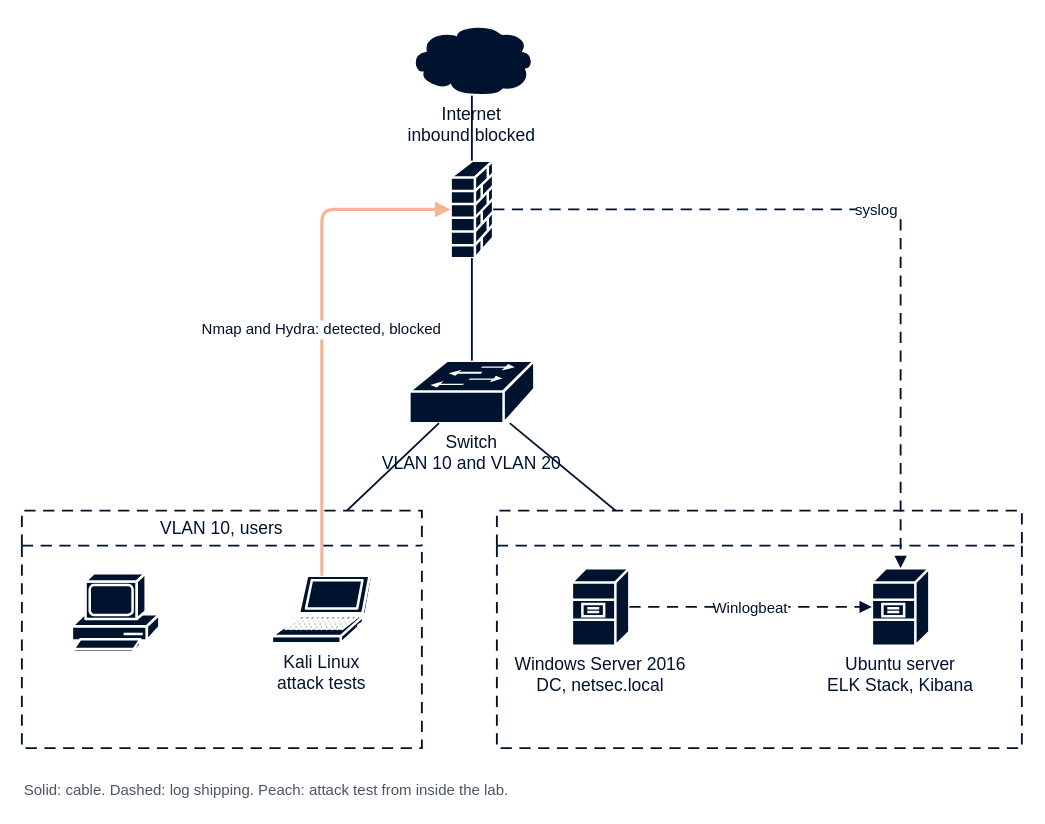
This 1045x824 diagram has some shape labels left out. Here are the shapes that lost their labels. From the top down, the box of each, then its label:
(449, 159, 494, 259): pfSense firewall Snort + Suricata, Squid, OpenVPN
(70, 571, 160, 652): Windows 10 client
(495, 509, 1022, 748): VLAN 20, servers
